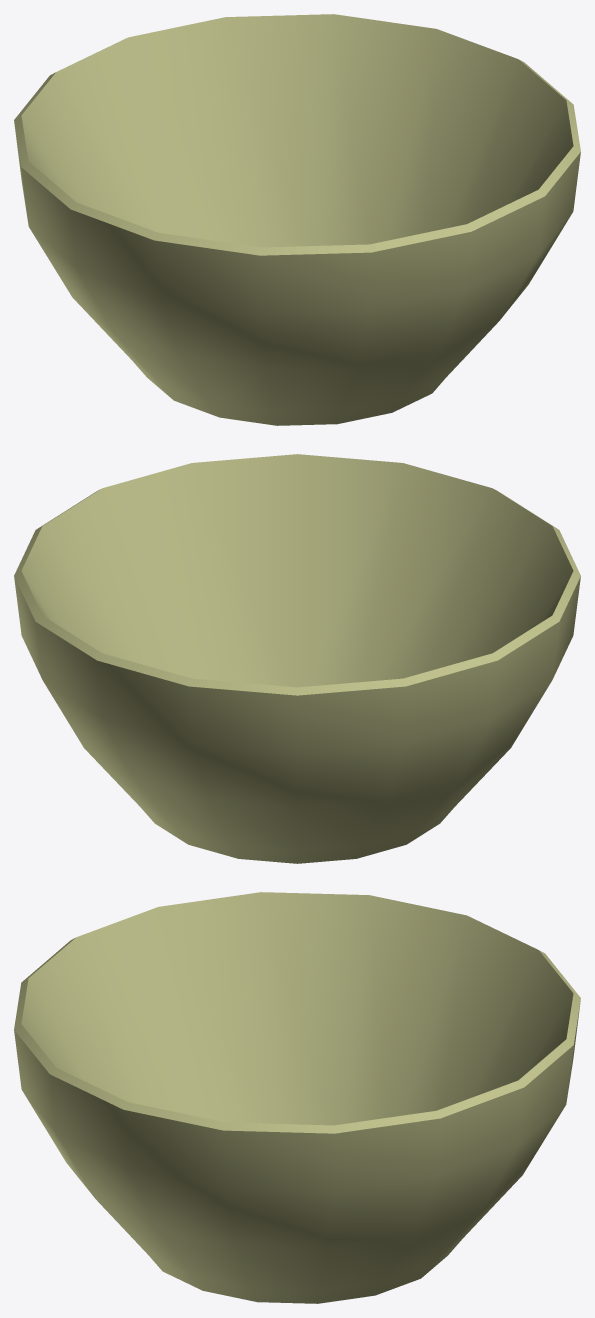
The model's file is plate2.fbx.
The picture shows the model from 3 angles, top to bottom: view 1: azimuth 30°, elevation 25°; view 2: azimuth 150°, elevation 25°; view 3: azimuth 270°, elevation 25°; orthographic projection.
Visible parts, largest first — view 1: plate2; view 2: plate2; view 3: plate2.
Part boxes in pixels (left/top/right/bottom): plate2: left=14, top=14, right=580, bottom=425; plate2: left=14, top=454, right=580, bottom=863; plate2: left=14, top=892, right=580, bottom=1303.
Bounding box in the file's own units: 3.71 × 3.71 × 1.66.
